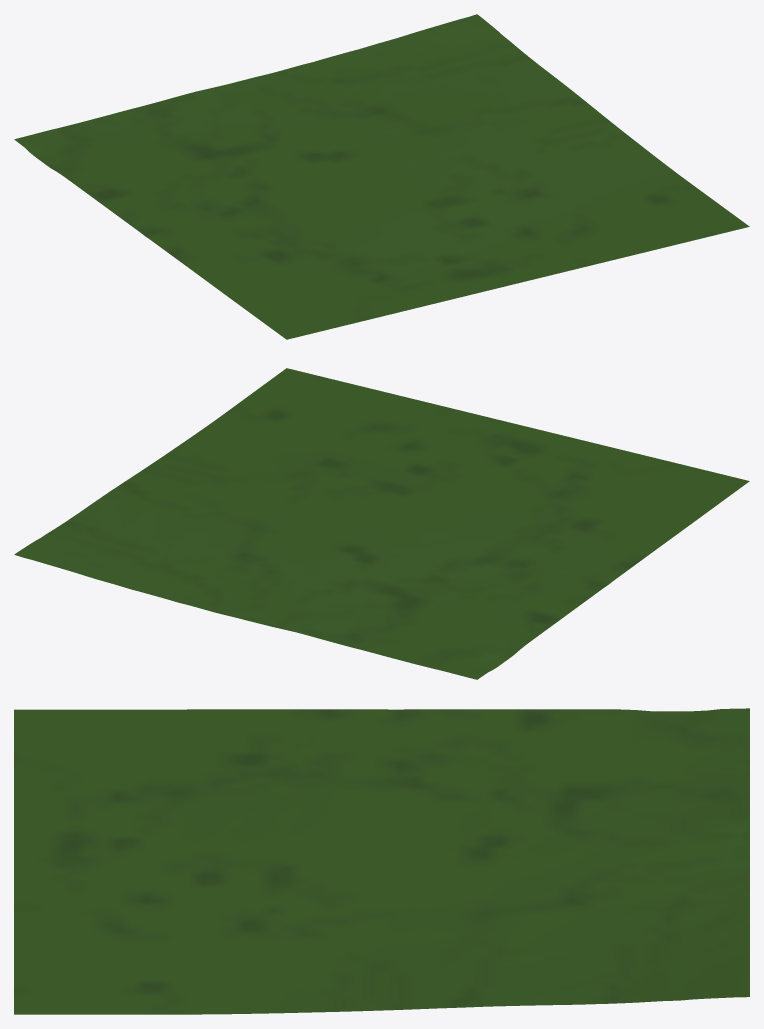
Rendered from chunk8-3_LOD0.obj.
3 renders of one model, top to bottom at view 1: azimuth 30°, elevation 25°; view 2: azimuth 150°, elevation 25°; view 3: azimuth 270°, elevation 25°, orthographic. The views are drawn at different scales.
Visible parts, largest first — view 1: chunk_8_3_LOD0; view 2: chunk_8_3_LOD0; view 3: chunk_8_3_LOD0.
Part boxes in pixels (x1,y1,x2,y2): chunk_8_3_LOD0: [14, 14, 749, 339]; chunk_8_3_LOD0: [14, 368, 749, 679]; chunk_8_3_LOD0: [14, 708, 749, 1014].
Size of the model in its own units: 1994 by 58.64 by 2033.
Materials: 1 (1 with a texture image).
